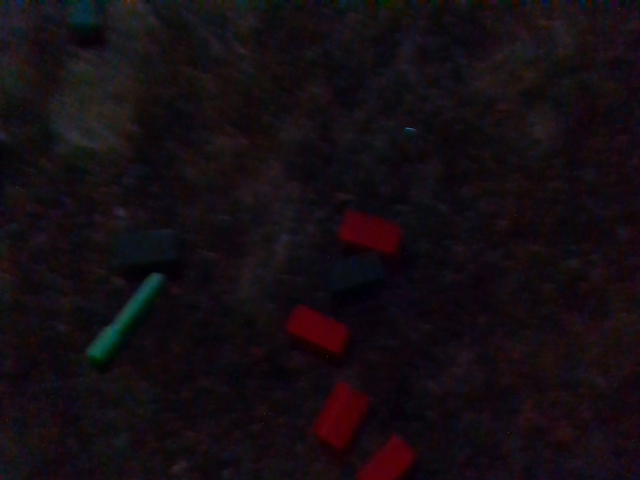Probe: (83, 270, 166, 359)
